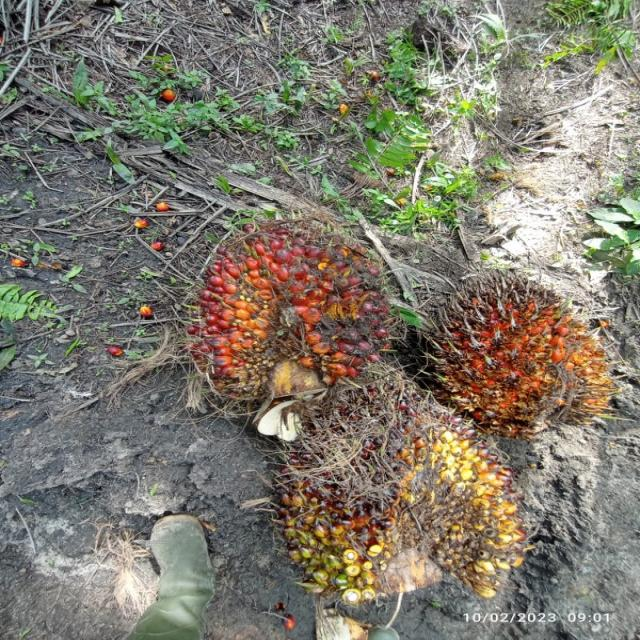fraksi 00: (256, 354, 578, 622)
fraksi 3: (185, 192, 405, 465)
fraksi 4: (418, 202, 612, 469)
